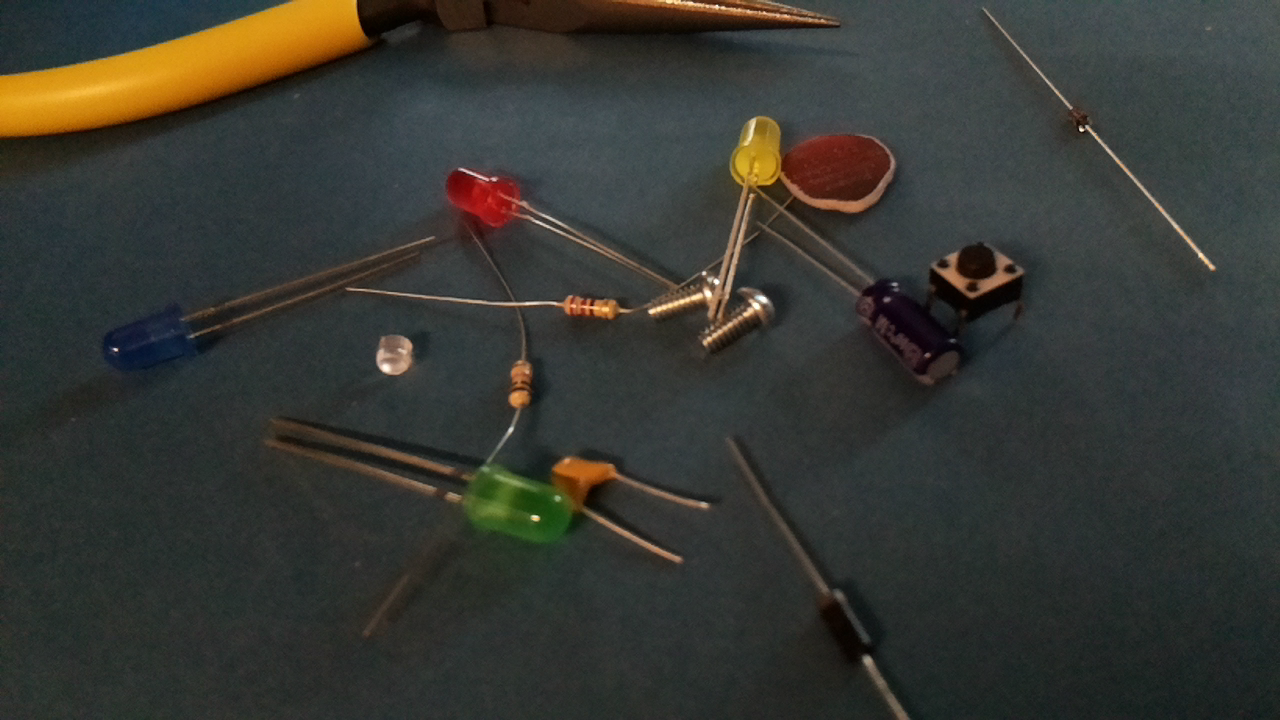button: (926, 241, 1031, 320)
capacitor: (847, 278, 968, 392), (547, 454, 620, 520)
diode: (811, 586, 879, 669), (1063, 104, 1095, 135)
led: (454, 458, 576, 554), (97, 298, 199, 371), (443, 165, 521, 234), (727, 114, 783, 191)
resistor: (557, 292, 621, 323), (508, 358, 532, 412)
